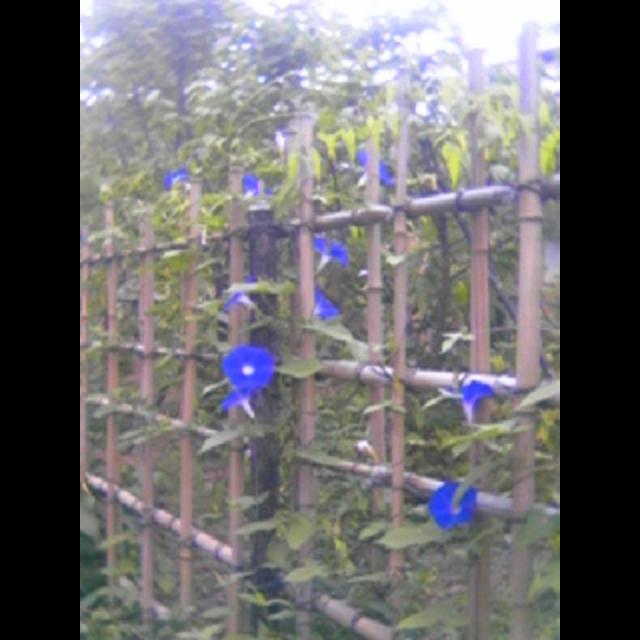Flower: (210, 328, 292, 412), (432, 482, 482, 526), (446, 378, 494, 418), (364, 150, 398, 192), (310, 228, 346, 264), (320, 292, 338, 322), (172, 166, 195, 184), (242, 172, 260, 192)
